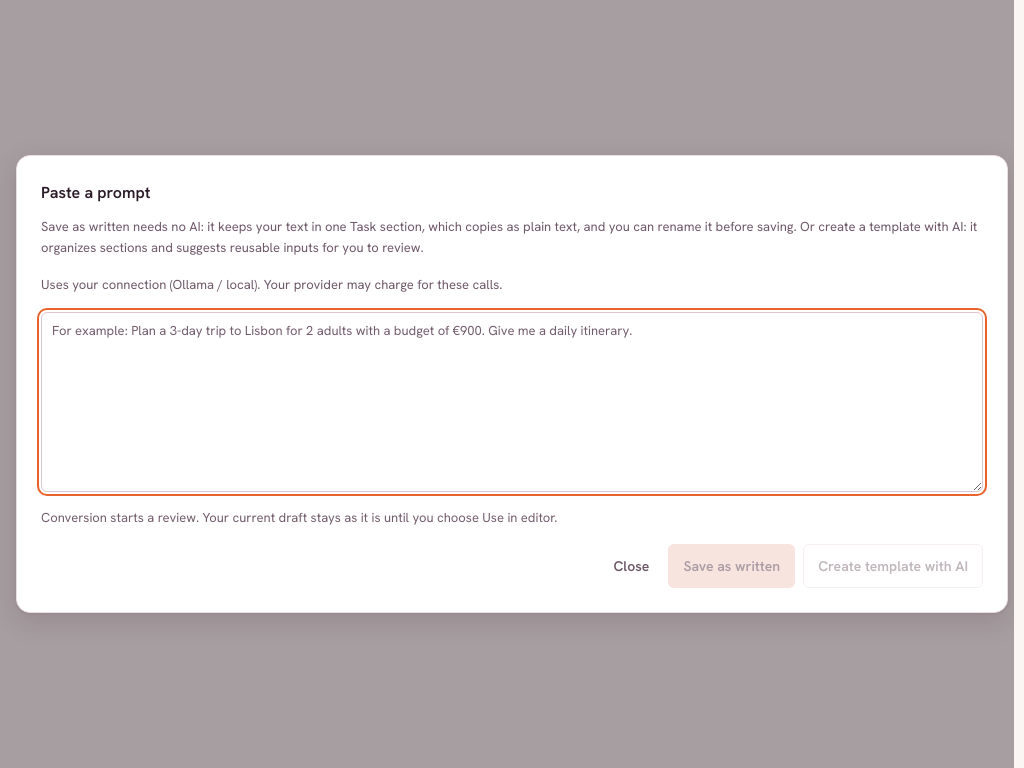
explains empty inputs when the conversion found no values
Replace the text in the text box named "Prompt to convert" with "Plan a 3-day trip to Lisbon." at (512, 402), box [41,312,983,492]
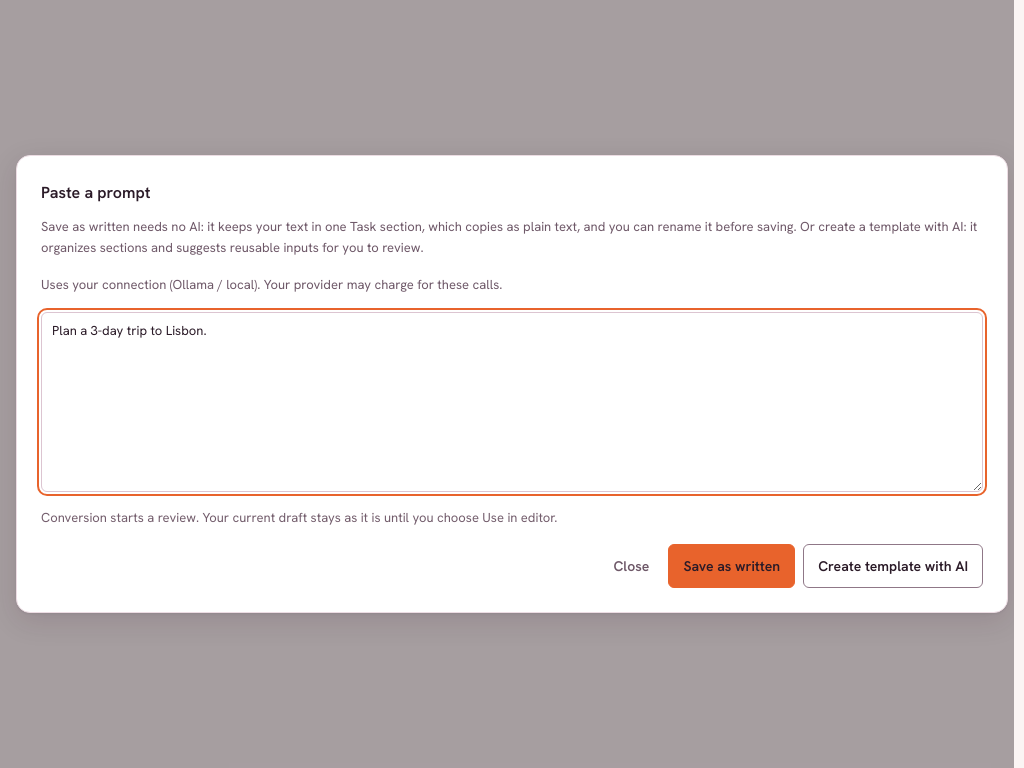
Click the button "Create template with AI" at (893, 566), box [803,544,983,588]
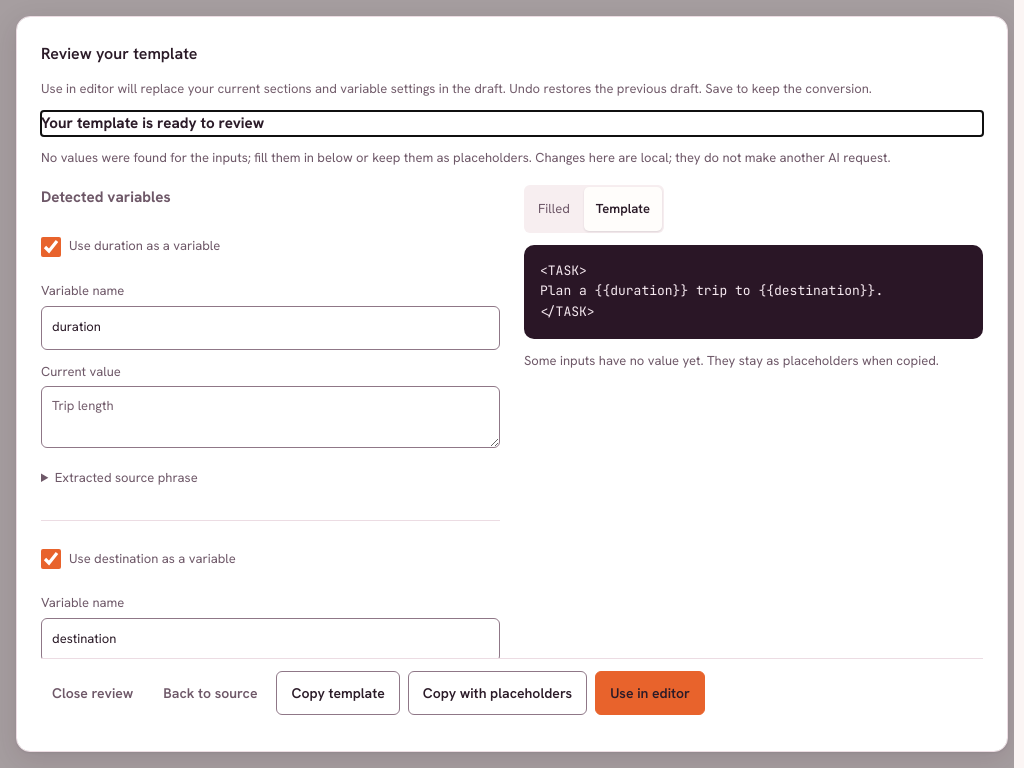
Expected: the button "Use in editor" is shown, [595,671,705,715]
Expected: the text "No values were found for the inputs" is shown, [41,149,532,166]
